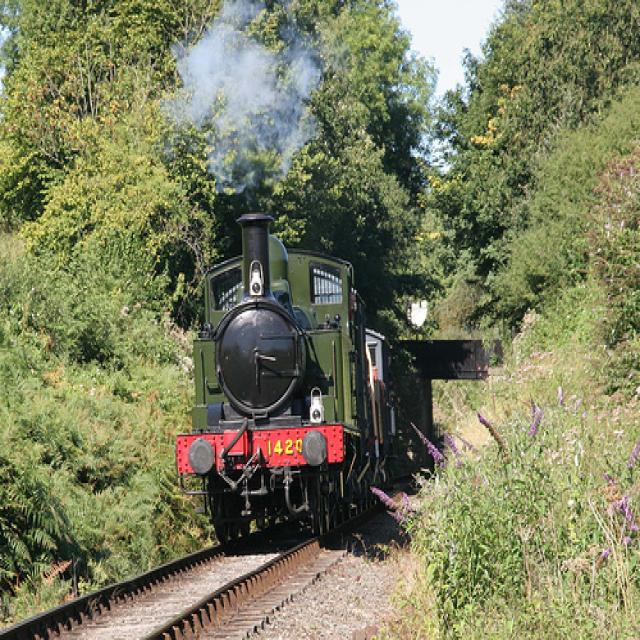train: (172, 208, 403, 543)
